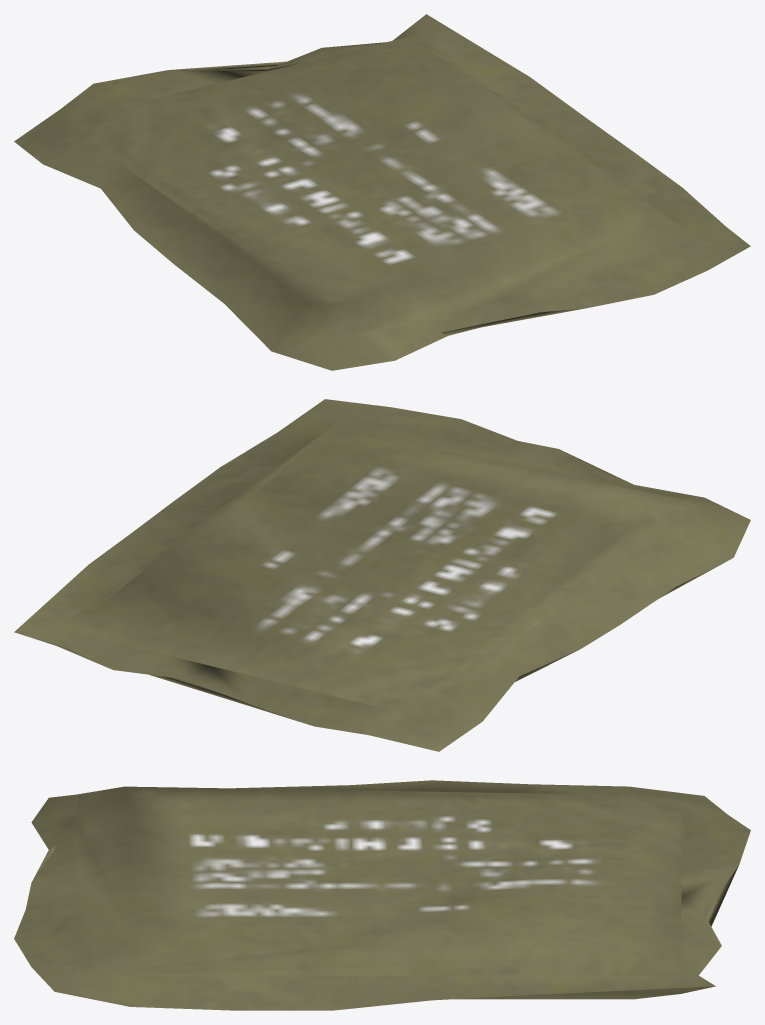
File: MM_SealedBandage.fbx
The picture shows the model from 3 angles, top to bottom: view 1: azimuth 30°, elevation 25°; view 2: azimuth 150°, elevation 25°; view 3: azimuth 270°, elevation 25°; orthographic projection. The views are drawn at different scales.
Parts seen in each view (by area): view 1: model_0; view 2: model_0; view 3: model_0.
Part boxes in pixels (x1,y1,x2,y2): model_0: [14, 14, 750, 370]; model_0: [14, 399, 750, 751]; model_0: [14, 780, 750, 1010].
Bounding box in the file's own units: 72.25 × 7.95 × 95.81.
